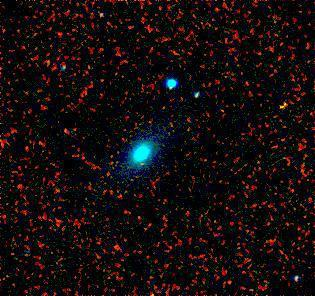star: (28, 47, 58, 77)
